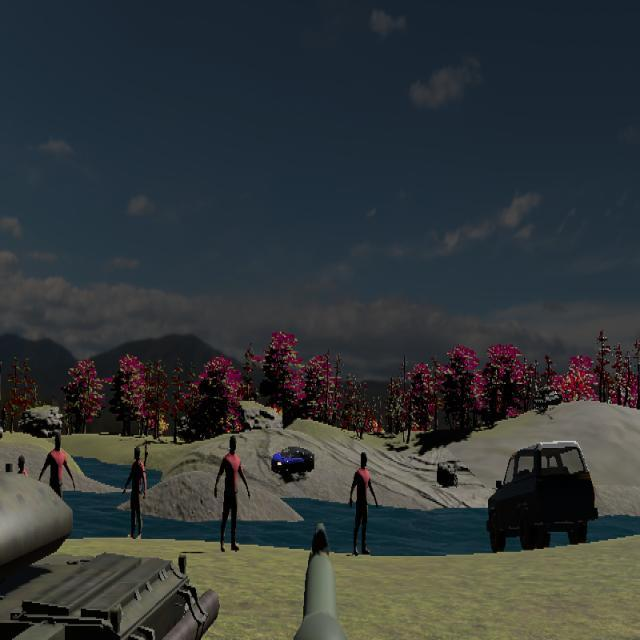Human: (214, 434, 251, 553), (38, 431, 76, 543), (349, 451, 378, 557), (122, 445, 147, 542)
Tank: (0, 455, 227, 638)
car: (487, 440, 596, 551), (271, 445, 315, 477)
